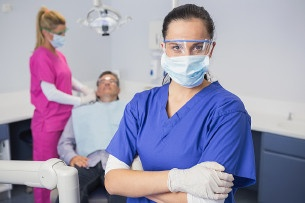Mask: (160, 39, 211, 90)
